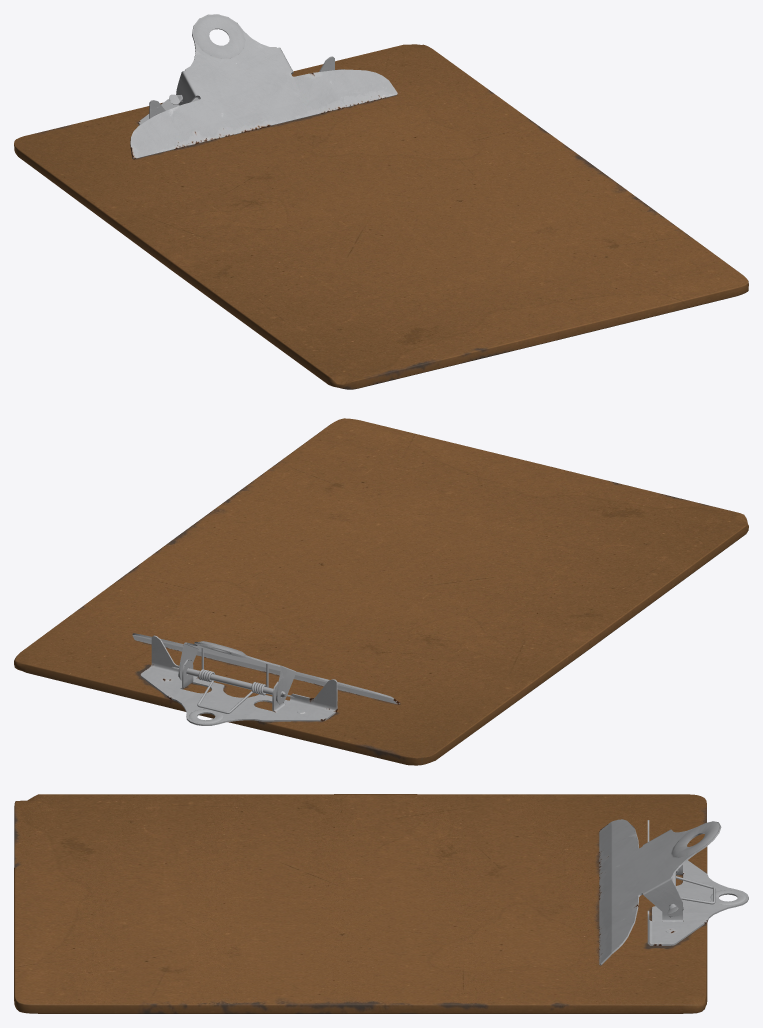
File: clipboard_1k.glb
The picture shows the model from 3 angles, top to bottom: view 1: azimuth 30°, elevation 25°; view 2: azimuth 150°, elevation 25°; view 3: azimuth 270°, elevation 25°; orthographic projection. The views are drawn at different scales.
Parts seen in each view (by area): view 1: clipboard; view 2: clipboard; view 3: clipboard.
Part boxes in pixels (box(x1,y1,x2,y2)): clipboard: box(14, 14, 748, 389); clipboard: box(14, 418, 748, 765); clipboard: box(14, 794, 748, 1013).
Size of the model in its own units: 0.2286 by 0.042 by 0.3366.
1 material, 1 textured.
